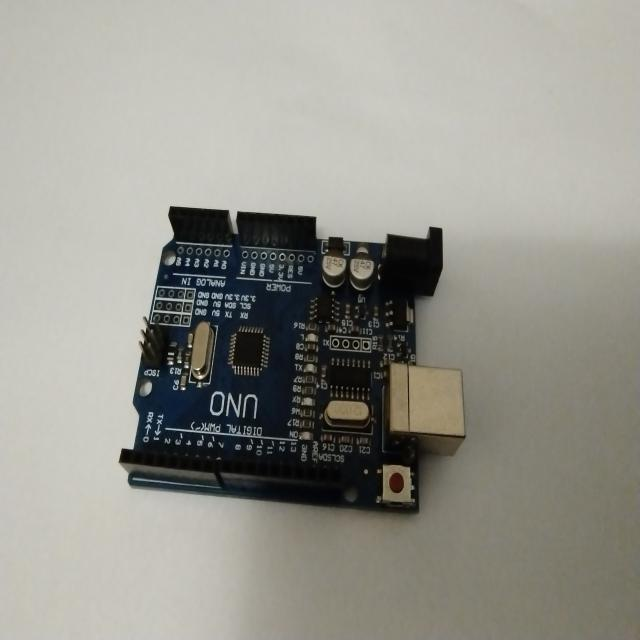arduino: (125, 194, 468, 528)
